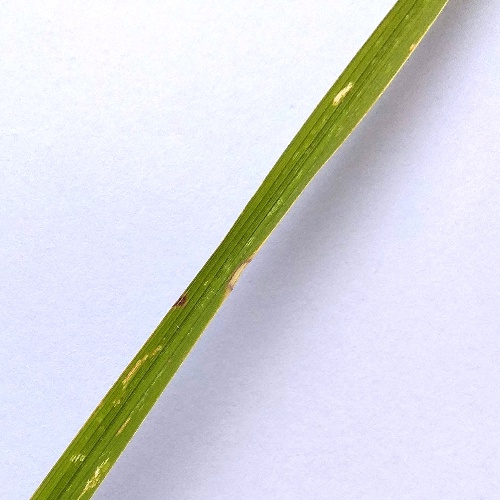Busuk Leher: (225, 256, 263, 296), (325, 73, 359, 114), (166, 286, 195, 312)
